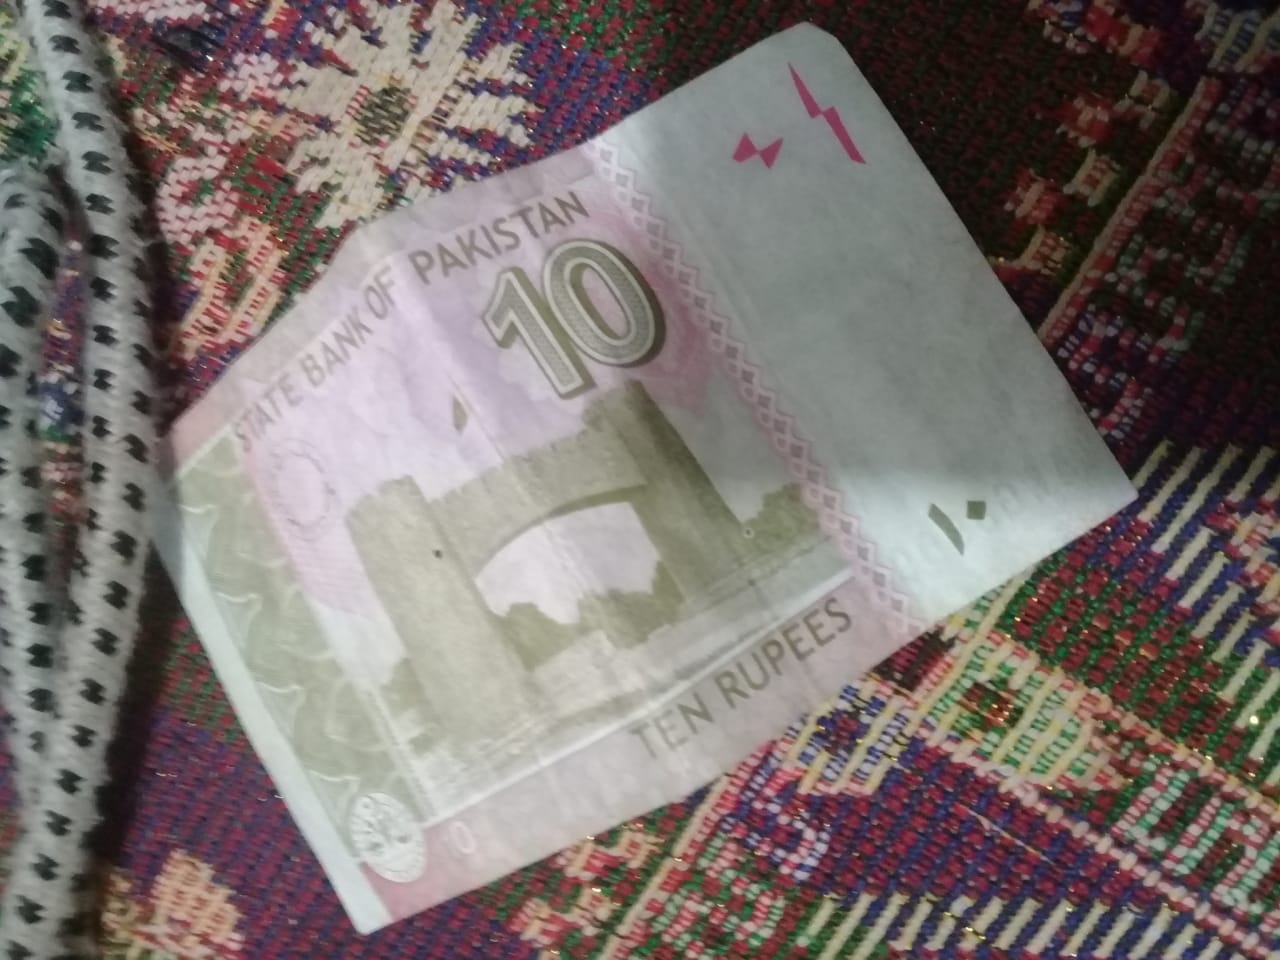10 rupee: (162, 16, 1147, 952)
